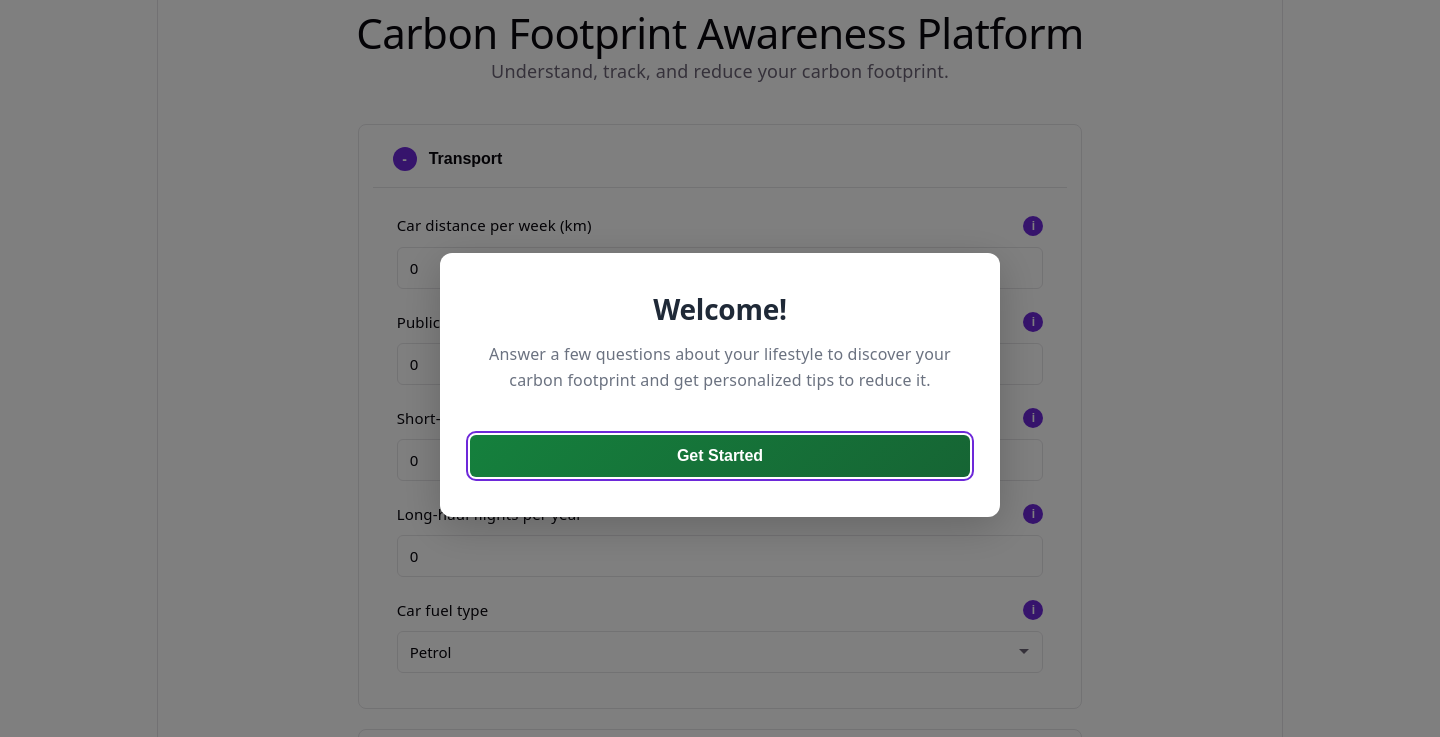
Test case: App behavior coverage › shows an error when PDF generation fails
Step 1. Click the button "Get Started" → (720,456), box [470,435,970,477]
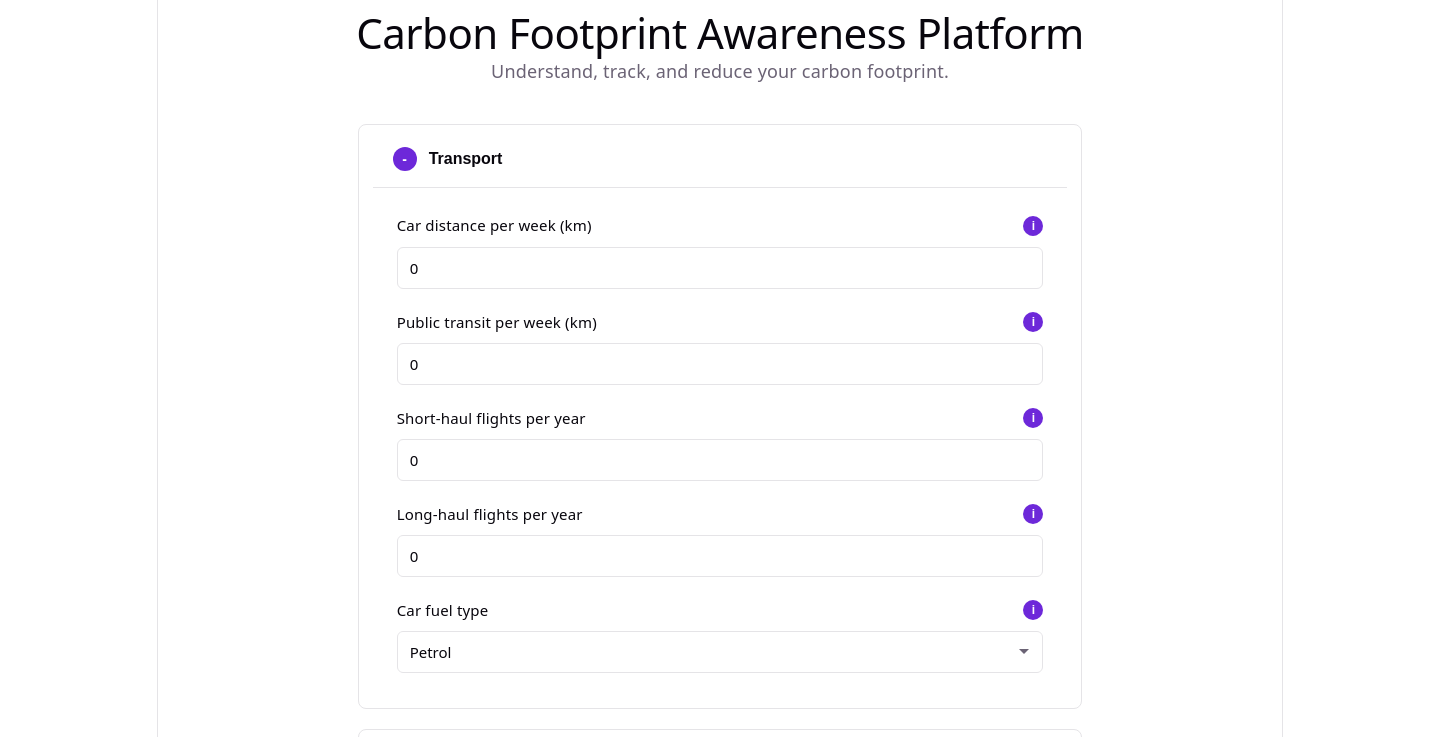
Step 2. Replace the text in the number field labelled "Car distance per week (km)" with "50" → (720,268), box [397,247,1043,289]
(page scrolled)
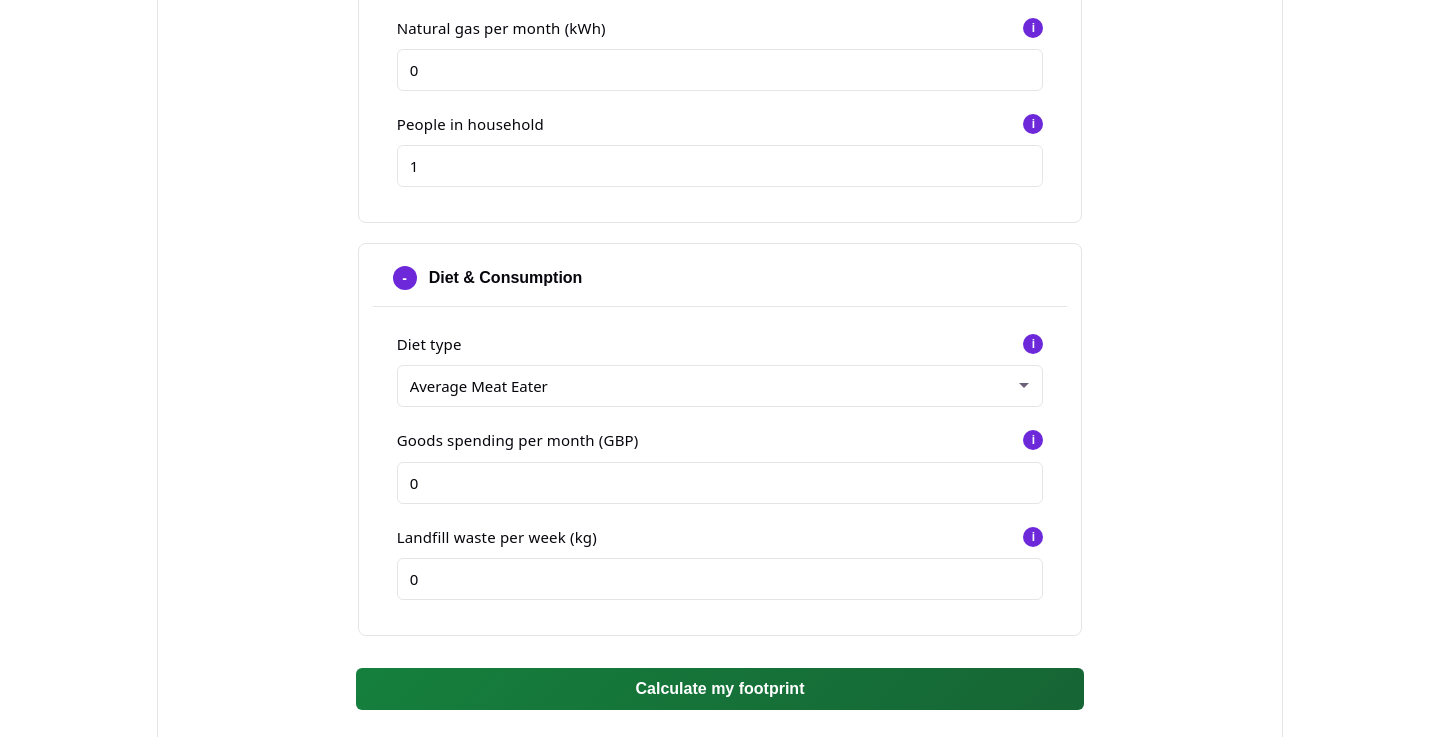
Step 3. Click the button with aria-label "Calculate my carbon footprint" → (720,689), box [356,668,1084,710]
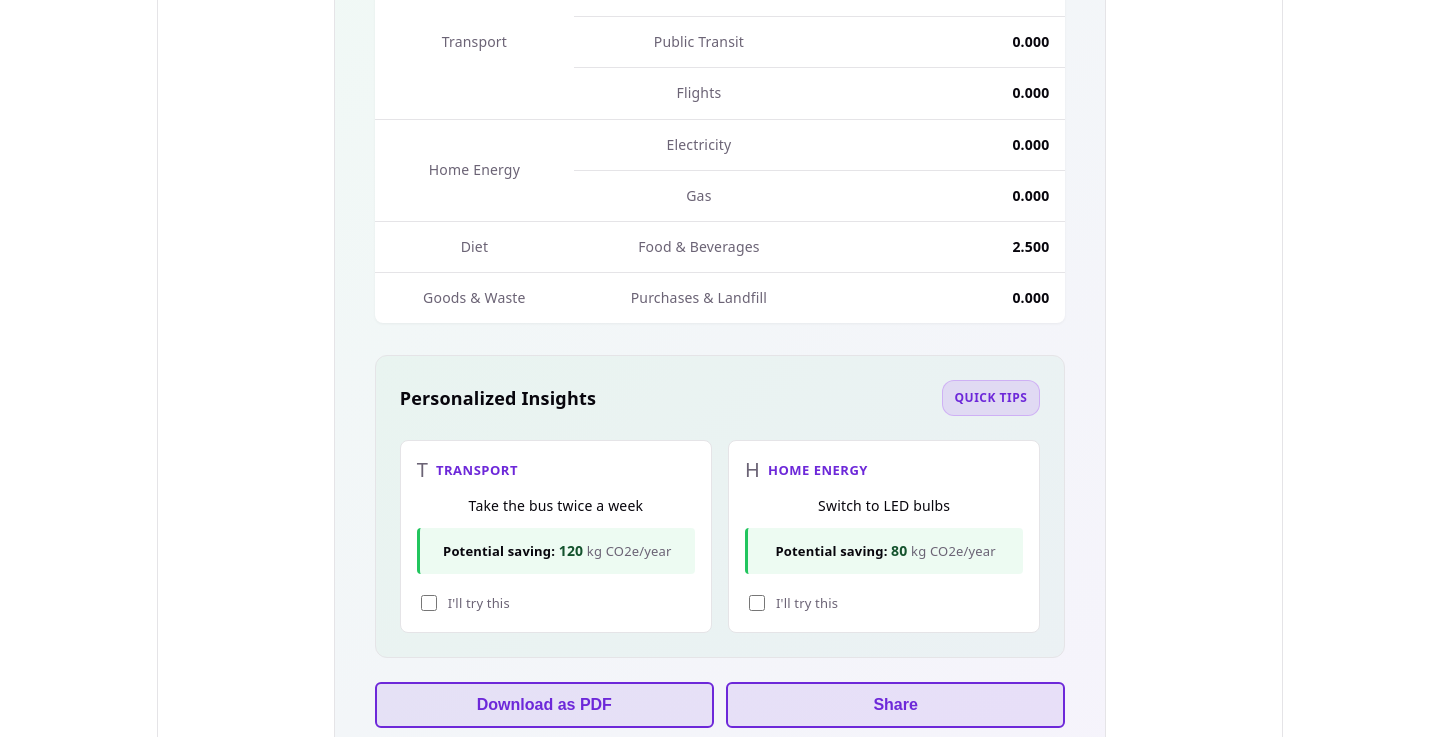
Step 4. Click the button with aria-label "Download carbon footprint report as a PDF" → (544,705), box [375,682,714,728]
(page scrolled)
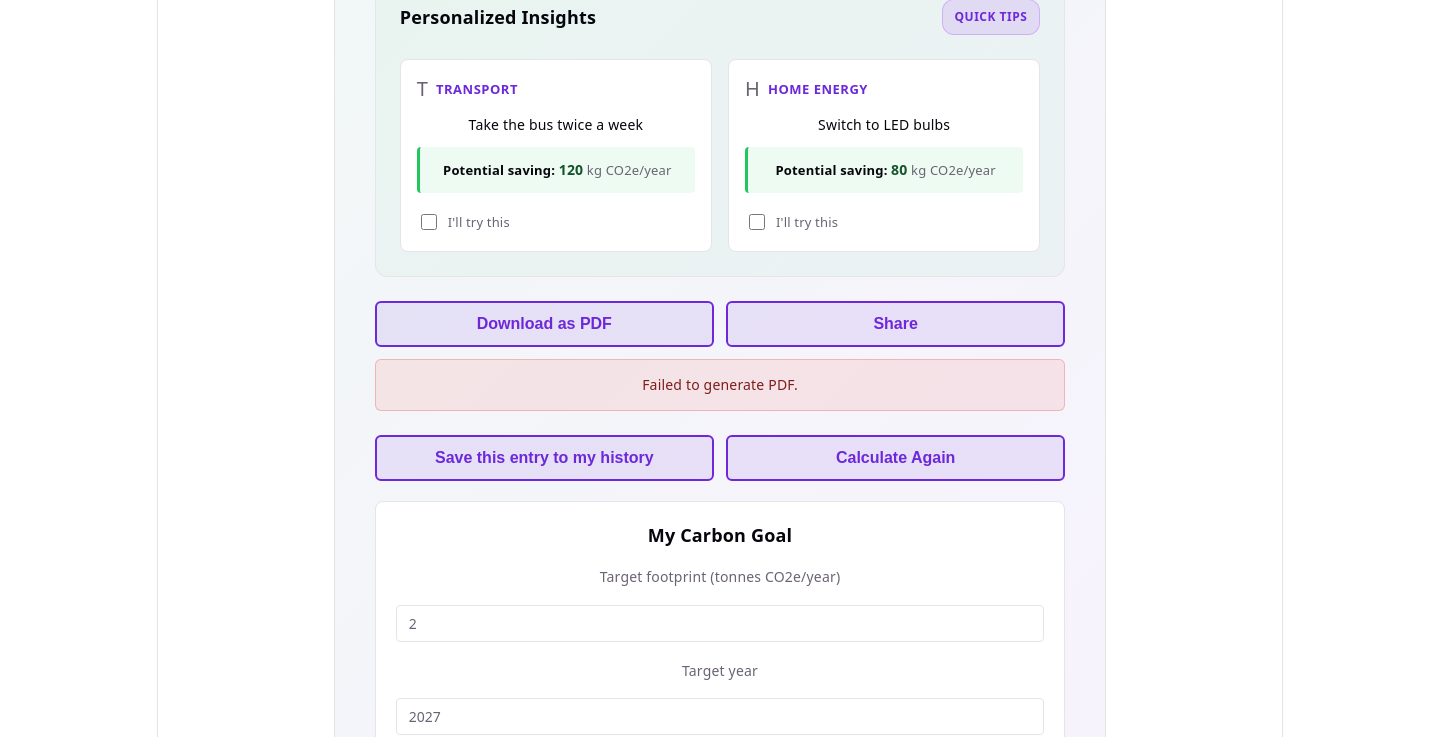
Expected: the text "Failed to generate PDF." is shown, [375,359,1065,411]
